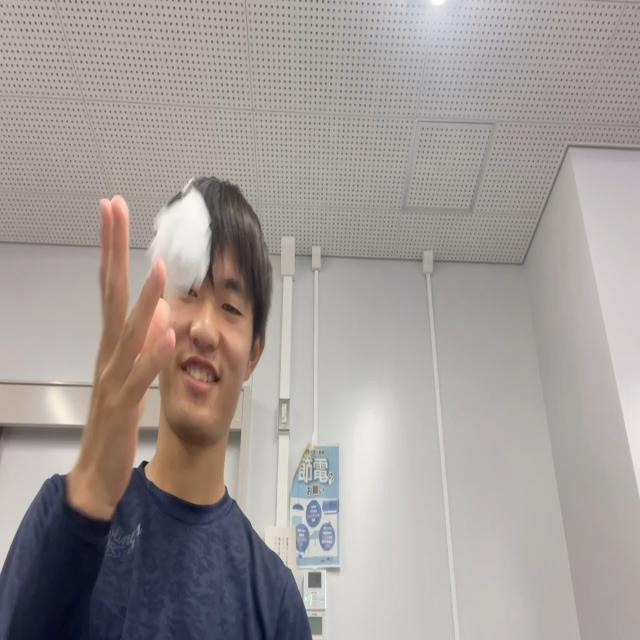paper: (143, 187, 212, 297)
